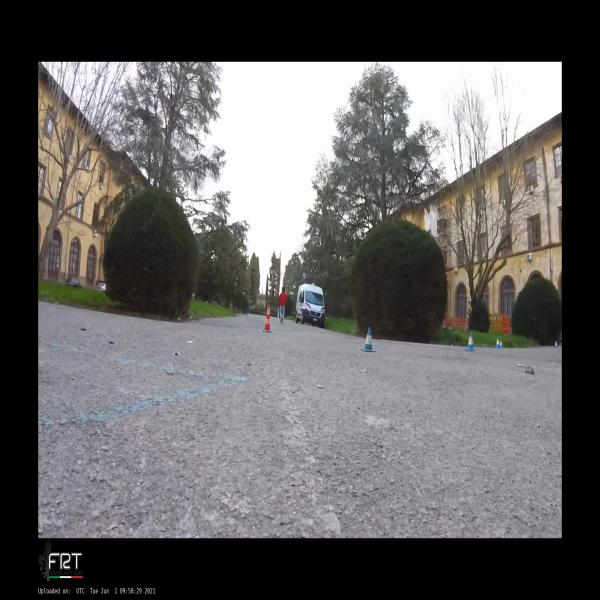blue_cone: (361, 326, 376, 352), (464, 333, 476, 351), (496, 337, 499, 349), (500, 341, 502, 349), (555, 340, 557, 348)
large_orange_cone: (262, 306, 272, 333)
